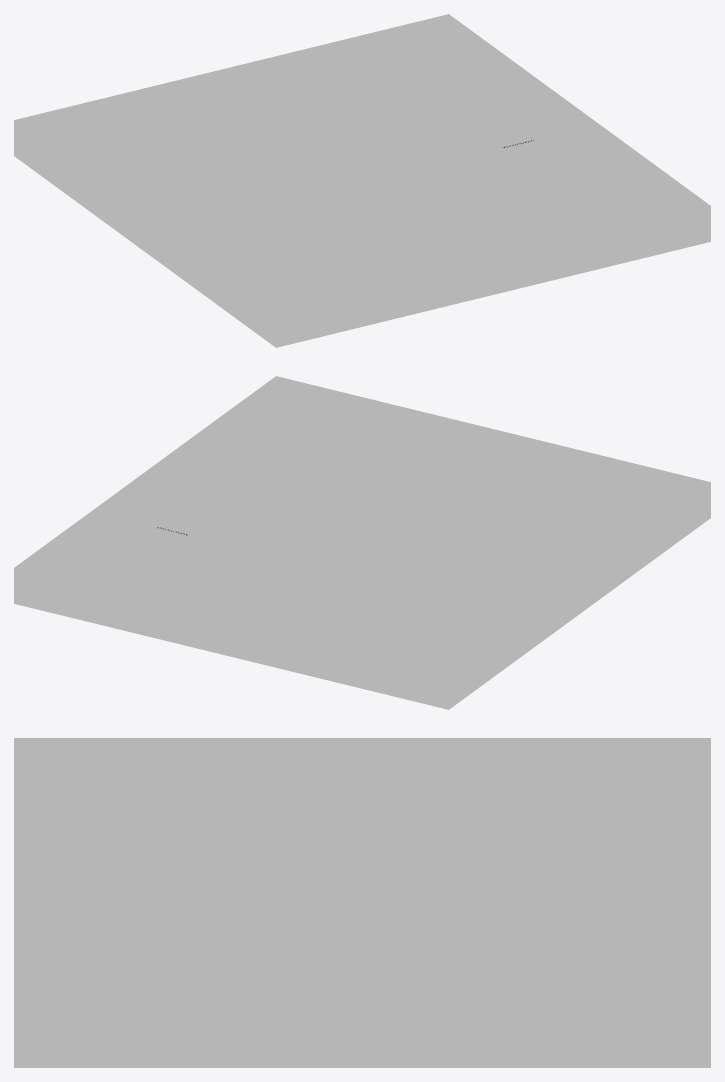
File: 2022_may_open_ccw.dae
3 views of the same model, one above another, from view 1: azimuth 30°, elevation 25°; view 2: azimuth 150°, elevation 25°; view 3: azimuth 270°, elevation 25° (orthographic). The views are drawn at different scales.
Visible parts, largest first — view 1: field, wall, road, il, ol, cl; view 2: field, wall, road, ol, il, cl; view 3: field, wall, road, il, ol, cl.
Part boxes in pixels (box(x1,y1,x2,y2)): field: box(51, 50, 673, 299); wall: box(14, 14, 710, 347); road: box(133, 86, 630, 311); il: box(130, 85, 633, 311); ol: box(170, 101, 594, 301); cl: box(151, 93, 613, 307); field: box(51, 412, 673, 673); wall: box(14, 376, 710, 709); road: box(95, 445, 636, 660); ol: box(132, 461, 599, 647); il: box(92, 444, 639, 661); cl: box(113, 453, 618, 654); field: box(14, 785, 710, 1020); wall: box(14, 738, 710, 1067); road: box(58, 804, 666, 1020); il: box(54, 802, 670, 1020); ol: box(106, 824, 618, 1020); cl: box(81, 814, 643, 1020).
Size of the model in its own units: 12.68 by 13.24 by 1.
